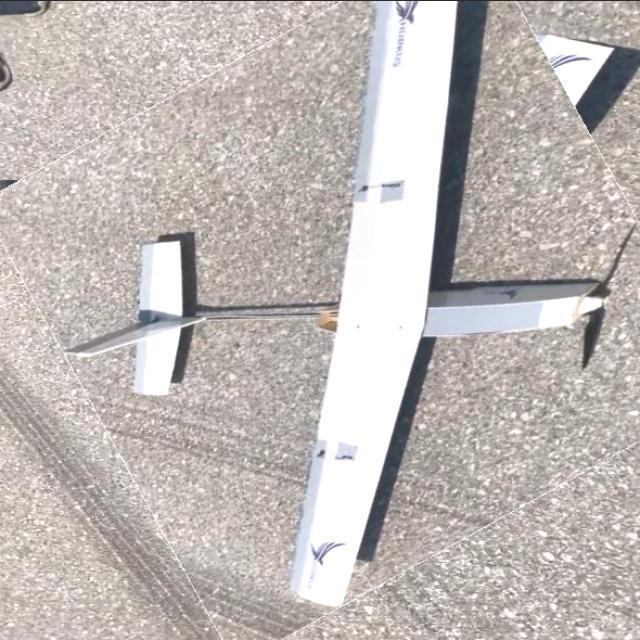plane: (65, 0, 640, 607)
